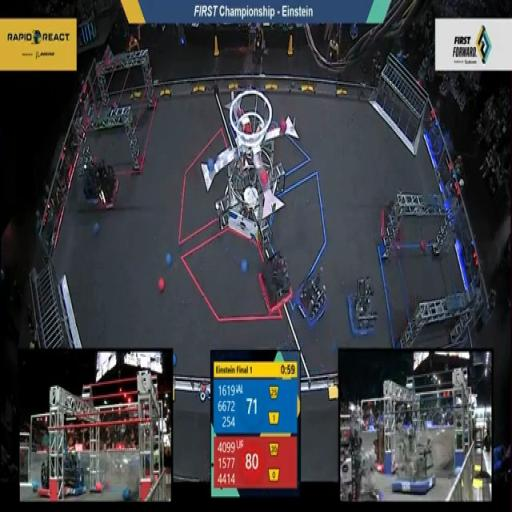robot: (257, 239, 293, 317), (346, 272, 382, 338), (293, 265, 329, 328), (377, 181, 405, 252), (93, 154, 123, 214), (78, 146, 104, 211)
